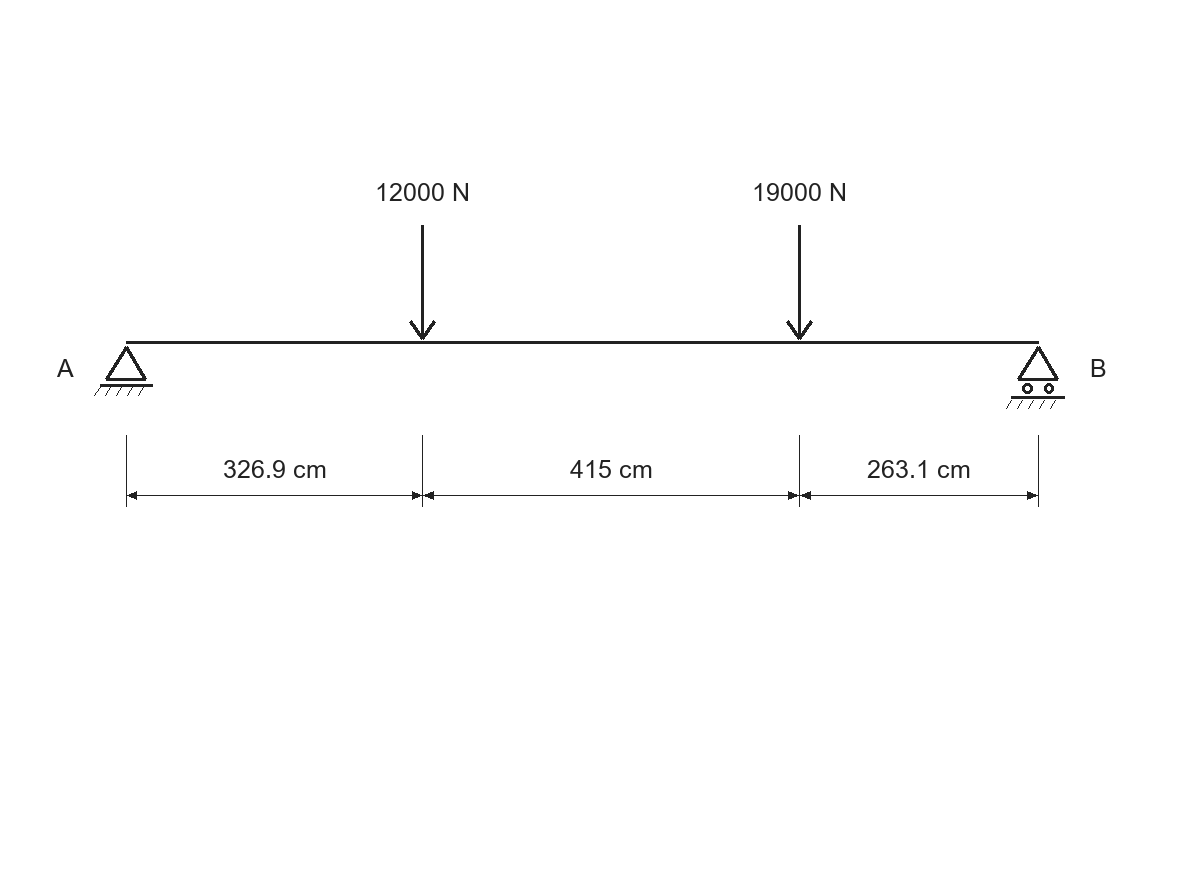pin_support: (94, 346, 153, 396)
point_load: (409, 225, 436, 340), (786, 225, 813, 340)
roller_support: (1006, 346, 1065, 409)
